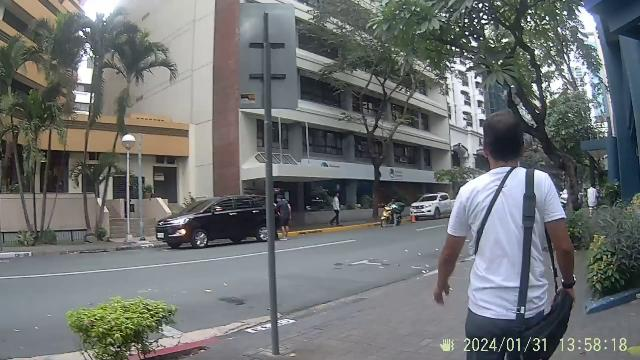lamp_post: (119, 125, 137, 249)
street_sign: (234, 0, 302, 354)
tree: (507, 47, 598, 231), (358, 69, 394, 219)
